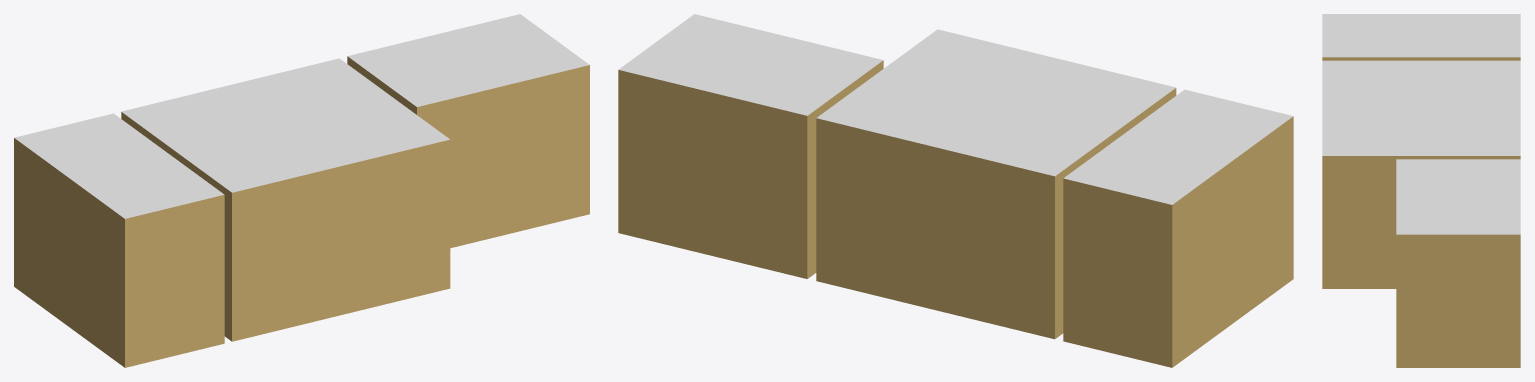
The model's file is Bedroom_2.glb.
3 views of the same model, side by side, from view 1: azimuth 30°, elevation 25°; view 2: azimuth 150°, elevation 25°; view 3: azimuth 270°, elevation 25° (orthographic). The views are drawn at different scales.
Parts seen in each view (by area): view 1: Room_Bedroom2, Room_Dressing2_Cpd, Room_En-Suite2; view 2: Room_Bedroom2, Room_Dressing2_Cpd, Room_En-Suite2; view 3: Room_Bedroom2, Room_En-Suite2, Room_Dressing2_Cpd.
Boxes of the visible parts, x1=… form: Room_Bedroom2: x1=121, y1=58, x2=450, y2=341; Room_Dressing2_Cpd: x1=14, y1=113, x2=224, y2=367; Room_En-Suite2: x1=347, y1=14, x2=589, y2=248; Room_Bedroom2: x1=816, y1=29, x2=1176, y2=339; Room_Dressing2_Cpd: x1=1063, y1=89, x2=1293, y2=367; Room_En-Suite2: x1=618, y1=14, x2=883, y2=278; Room_Bedroom2: x1=1322, y1=60, x2=1520, y2=288; Room_En-Suite2: x1=1396, y1=159, x2=1520, y2=367; Room_Dressing2_Cpd: x1=1322, y1=14, x2=1520, y2=60.
Bounding box in the file's own units: 8.7 × 2.45 × 3.31.
